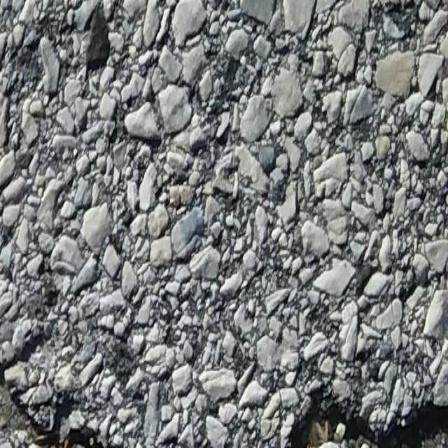crack: (284, 377, 448, 448)
